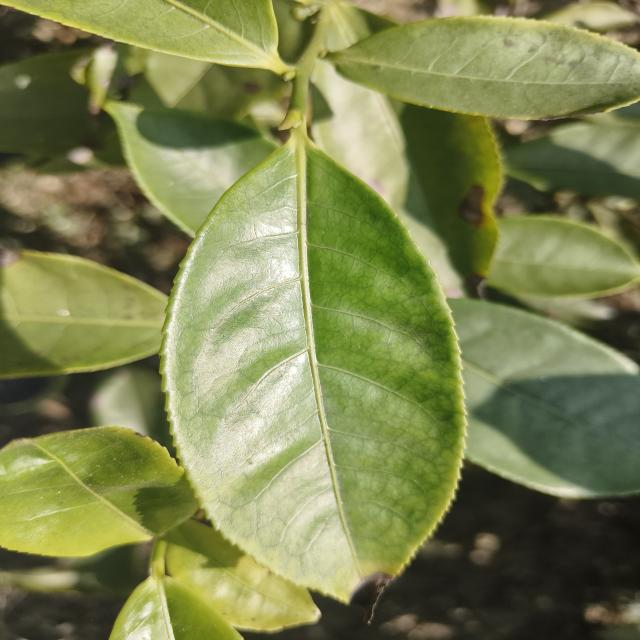Leaf: (162, 127, 465, 600), (311, 60, 502, 298), (449, 299, 640, 498), (327, 16, 640, 119), (0, 426, 197, 556), (106, 101, 277, 237), (0, 249, 167, 379), (1, 0, 290, 74), (164, 519, 320, 632), (487, 215, 640, 297), (504, 114, 640, 199), (109, 574, 242, 640), (325, 0, 396, 51)
